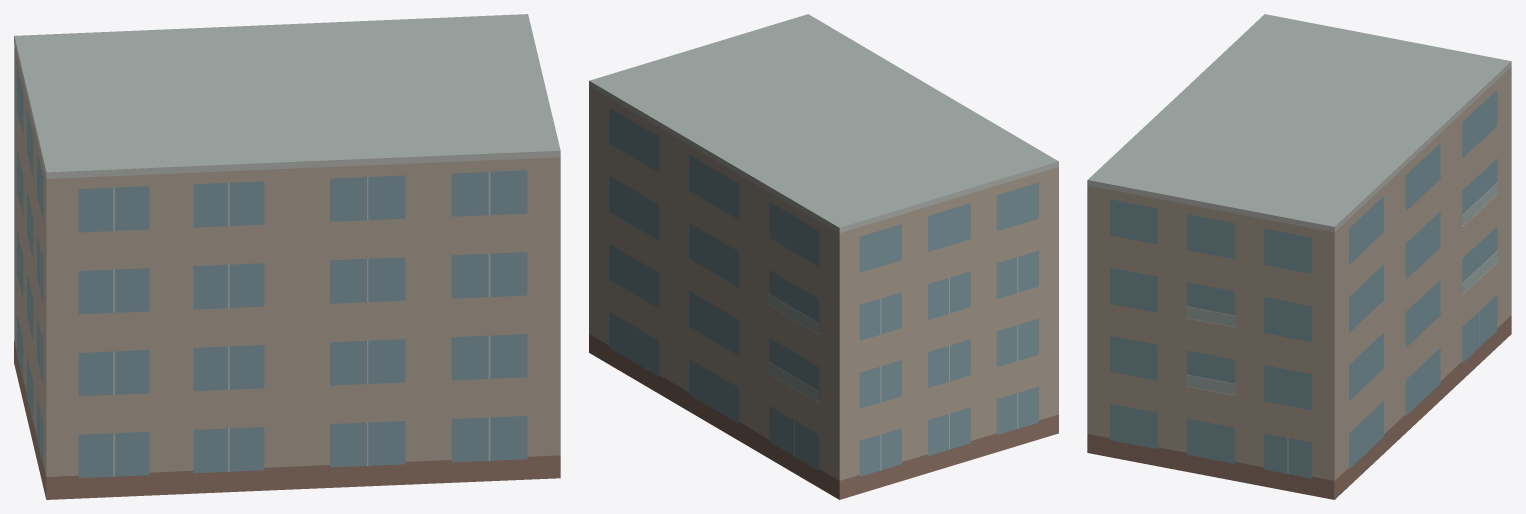
File: residential-3ca3f148-bf62-4a3b-85c0-5fc052317fb5.glb
3 renders of one model, left to right at view 1: azimuth 30°, elevation 25°; view 2: azimuth 150°, elevation 25°; view 3: azimuth 270°, elevation 25°, orthographic. The views are drawn at different scales.
Visible parts, largest first — view 1: residential-3ca3f148-bf62-4a3b-85c0-5fc052317fb5.tmp; view 2: residential-3ca3f148-bf62-4a3b-85c0-5fc052317fb5.tmp; view 3: residential-3ca3f148-bf62-4a3b-85c0-5fc052317fb5.tmp.
Boxes of the visible parts, box(x1,y1,x2,y2) form: residential-3ca3f148-bf62-4a3b-85c0-5fc052317fb5.tmp: box(14, 14, 560, 499); residential-3ca3f148-bf62-4a3b-85c0-5fc052317fb5.tmp: box(589, 14, 1058, 499); residential-3ca3f148-bf62-4a3b-85c0-5fc052317fb5.tmp: box(1087, 14, 1511, 499).
Size of the model in its own units: 20.42 by 12.2 by 17.19.
